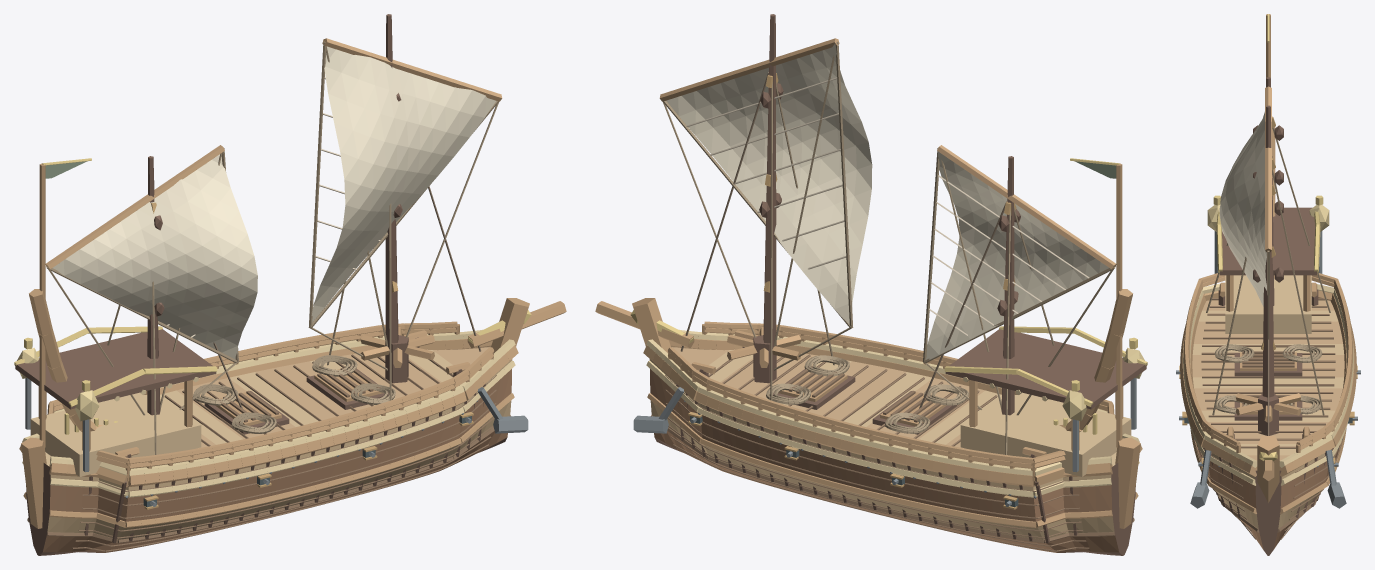
The model's file is dhow-v5-mobile.glb.
3 views of the same model, side by side, from view 1: azimuth 30°, elevation 25°; view 2: azimuth 150°, elevation 25°; view 3: azimuth 270°, elevation 25° (orthographic). The views are drawn at different scales.
Visible parts, largest first — view 1: dhow_sails_sail, dhow_hull_wood, dhow_hull_hull2, dhow_hull_seam, dhow_hull_pale, dhow_railings_wood, dhow_deck_darkwood, dhow_deck_decklight, dhow_hull_pine, dhow_hull_deck, dhow_rigging_rope, dhow_hull_decklight (+13 smaller); view 2: dhow_sails_sail, dhow_hull_wood, dhow_hull_hull2, dhow_hull_seam, dhow_hull_pale, dhow_railings_wood, dhow_deck_darkwood, dhow_deck_decklight, dhow_rigging_rope, dhow_hull_pine, dhow_masts_darkwood, dhow_hull_deck (+15 smaller); view 3: dhow_hull_deck, dhow_sails_sail, dhow_hull_wood, dhow_hull_seam, dhow_deck_decklight, dhow_hull_decklight, dhow_railings_wood, dhow_deck_darkwood, dhow_hull_pale, dhow_hull_hull2, dhow_masts_darkwood, dhow_fittings_darkwood (+15 smaller).
Boxes of the visible parts, x1,y1,x2,y2 form: dhow_sails_sail: (53, 46, 495, 359); dhow_hull_wood: (19, 298, 566, 528); dhow_hull_hull2: (43, 369, 511, 552); dhow_hull_seam: (27, 354, 510, 551); dhow_hull_pale: (22, 329, 515, 497); dhow_railings_wood: (47, 321, 493, 481); dhow_deck_darkwood: (15, 329, 216, 409); dhow_deck_decklight: (30, 392, 201, 476); dhow_hull_pine: (47, 346, 512, 540); dhow_hull_deck: (177, 347, 488, 448); dhow_rigging_rope: (46, 41, 498, 415); dhow_hull_decklight: (45, 349, 453, 466); dhow_sails_sail: (666, 43, 1108, 359); dhow_hull_wood: (595, 298, 1142, 528); dhow_hull_hull2: (650, 369, 1118, 552); dhow_hull_seam: (651, 354, 1134, 551); dhow_hull_pale: (646, 329, 1139, 497); dhow_railings_wood: (668, 321, 1114, 481); dhow_deck_darkwood: (945, 329, 1146, 409); dhow_deck_decklight: (960, 392, 1131, 476); dhow_rigging_rope: (663, 41, 1115, 415); dhow_hull_pine: (649, 346, 1114, 540); dhow_masts_darkwood: (759, 14, 1020, 415); dhow_hull_deck: (673, 347, 984, 448); dhow_hull_deck: (1192, 300, 1344, 460); dhow_sails_sail: (1219, 112, 1266, 306); dhow_hull_wood: (1180, 290, 1356, 514); dhow_hull_seam: (1193, 298, 1343, 539); dhow_deck_decklight: (1225, 275, 1311, 333); dhow_hull_decklight: (1192, 310, 1344, 455); dhow_railings_wood: (1184, 273, 1352, 452); dhow_deck_darkwood: (1220, 207, 1316, 275); dhow_hull_pale: (1183, 282, 1353, 485); dhow_hull_hull2: (1196, 445, 1340, 549); dhow_masts_darkwood: (1253, 77, 1283, 397); dhow_fittings_darkwood: (1218, 289, 1318, 438).
Bounding box in the file's own units: 44.37 × 36.43 × 14.98.
